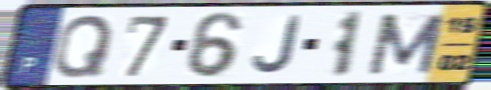1: (334, 8, 367, 80)
6: (182, 11, 246, 81)
7: (122, 14, 172, 79)
J: (250, 13, 305, 76)
M: (364, 12, 448, 77)
Q: (50, 12, 117, 80)
